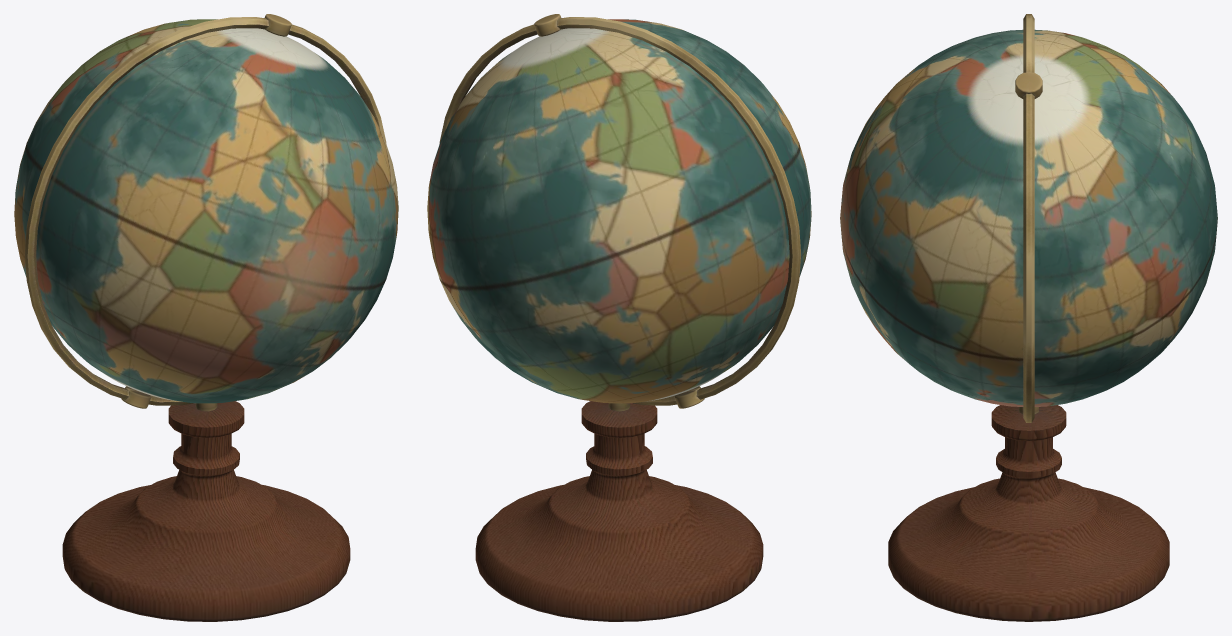
The model's file is desk-globe.glb.
3 renders of one model, left to right at view 1: azimuth 30°, elevation 25°; view 2: azimuth 150°, elevation 25°; view 3: azimuth 270°, elevation 25°, orthographic.
Parts seen in each view (by area): view 1: globe, stand; view 2: globe, stand; view 3: globe, stand.
Part boxes in pixels (bbox=[...]): globe: bbox=[14, 19, 398, 403]; stand: bbox=[25, 14, 386, 621]; globe: bbox=[427, 19, 811, 403]; stand: bbox=[439, 14, 800, 621]; globe: bbox=[840, 29, 1217, 406]; stand: bbox=[888, 14, 1169, 621].
Size of the model in its own units: 0.2489 by 0.3564 by 0.23.
Materials: 1 (1 with a texture image).
